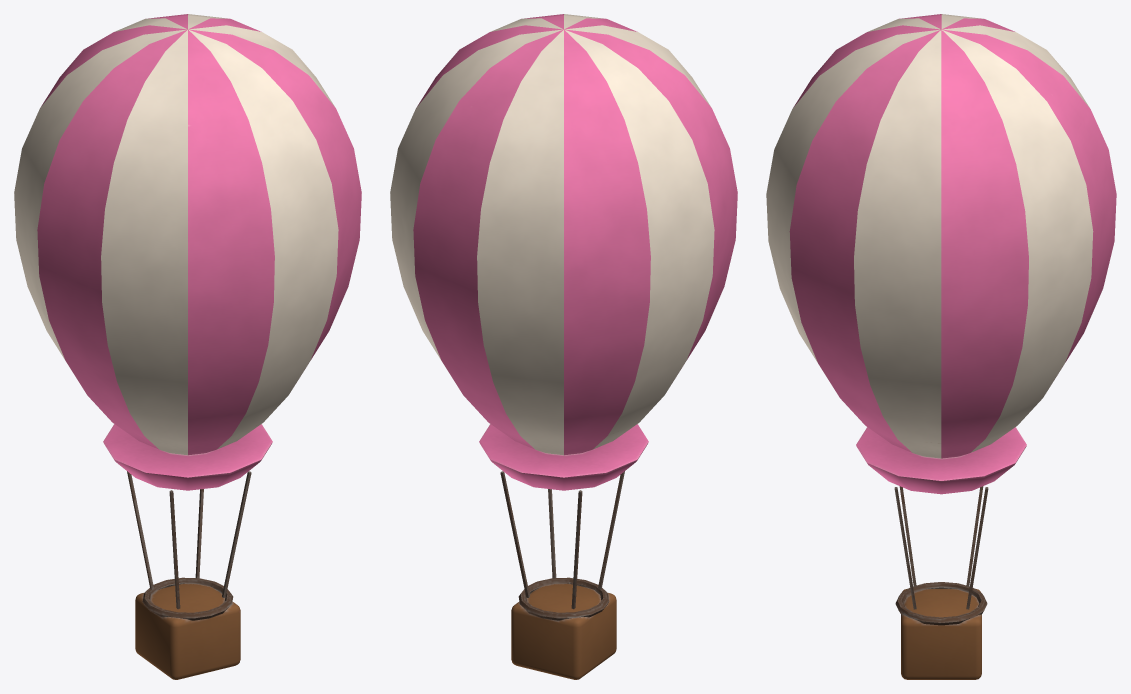
File: rr_balloon_a.glb
The picture shows the model from 3 angles, left to right: view 1: azimuth 30°, elevation 25°; view 2: azimuth 150°, elevation 25°; view 3: azimuth 270°, elevation 25°; orthographic projection.
Parts seen in each view (by area): view 1: rr_balloon_a; view 2: rr_balloon_a; view 3: rr_balloon_a.
Boxes of the visible parts, <box> form: rr_balloon_a: <box>14,14,361,679</box>; rr_balloon_a: <box>390,14,737,679</box>; rr_balloon_a: <box>766,14,1116,679</box>.
Size of the model in its own units: 5.17 by 10.35 by 5.17.
4 materials, 4 textured.
